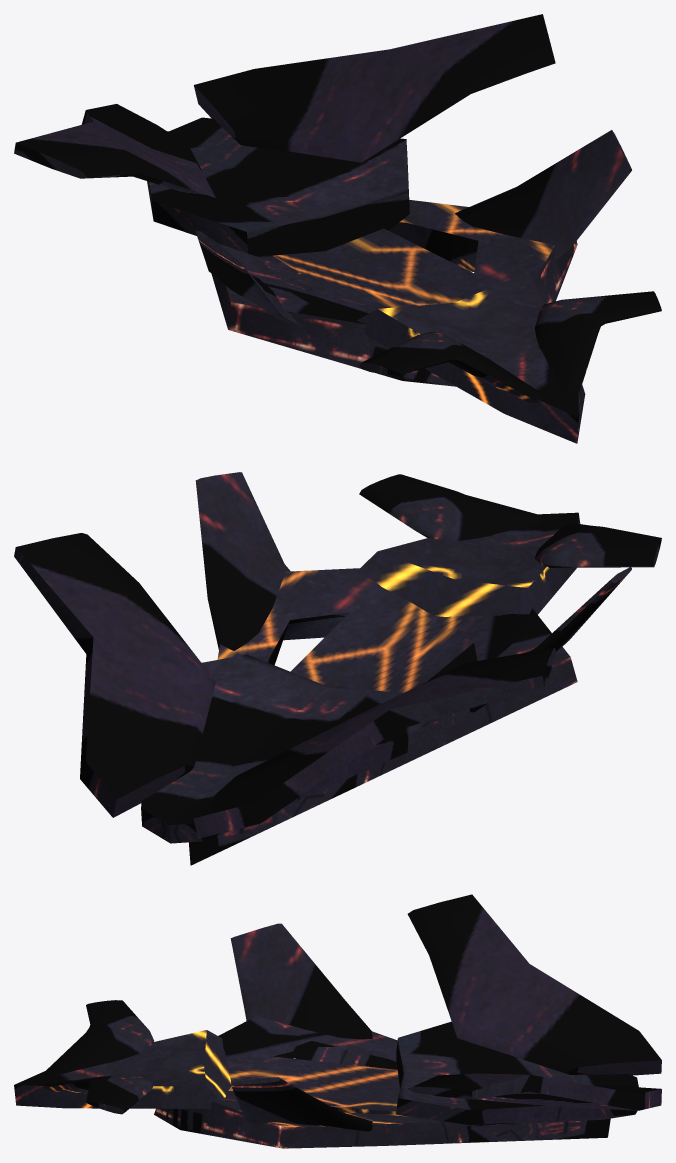
Rendered from ship16f.fbx.
3 views of the same model, one above another, from view 1: azimuth 30°, elevation 25°; view 2: azimuth 150°, elevation 25°; view 3: azimuth 270°, elevation 25° (orthographic). The views are drawn at different scales.
Visible parts, largest first — view 1: PipelineFBX; view 2: PipelineFBX; view 3: PipelineFBX.
Boxes of the visible parts, bbox=[...] form: PipelineFBX: bbox=[14, 14, 661, 443]; PipelineFBX: bbox=[14, 472, 661, 865]; PipelineFBX: bbox=[14, 894, 661, 1148].
Bounding box in the file's own units: 553 × 192 × 764.
Materials: 1 (1 with a texture image).
